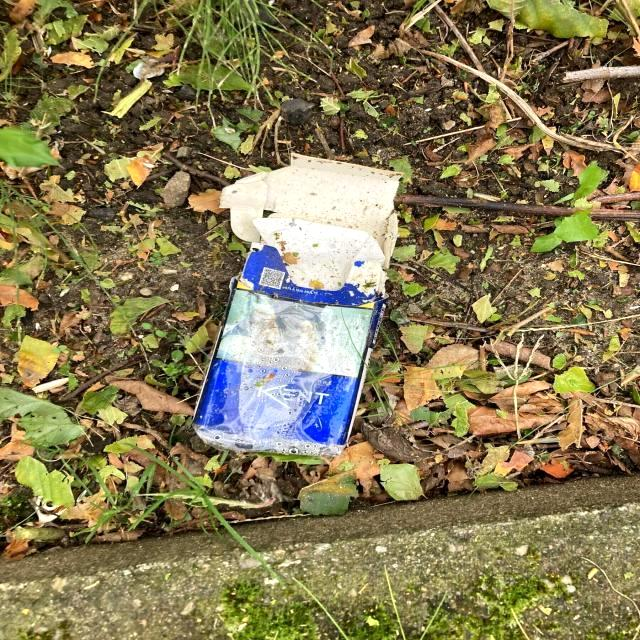Paper: (187, 148, 407, 462)
